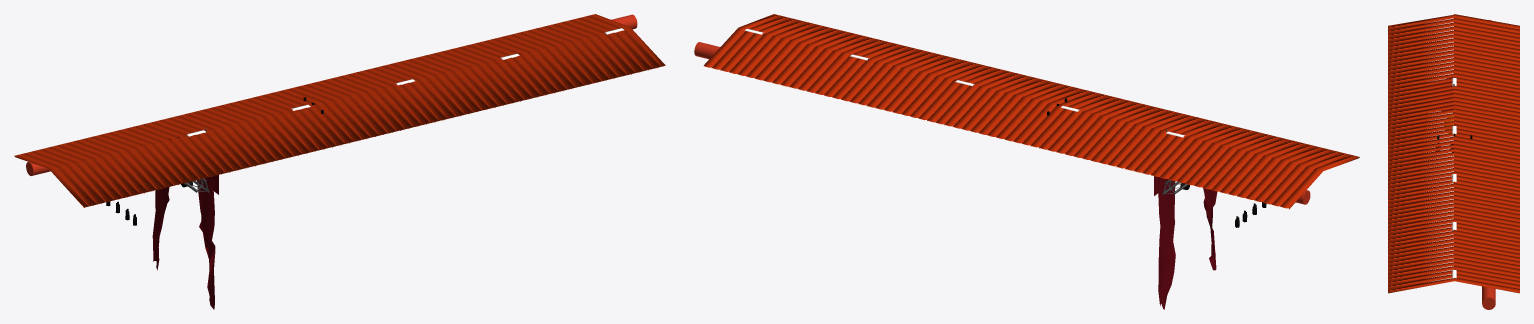
The model's file is plafond.glb.
The picture shows the model from 3 angles, left to right: view 1: azimuth 30°, elevation 25°; view 2: azimuth 150°, elevation 25°; view 3: azimuth 270°, elevation 25°; orthographic projection. The views are drawn at different scales.
Visible parts, largest first — view 1: toit, rideau rouges, tuyau orange haut; view 2: toit, rideau rouges; view 3: toit, tuyau orange haut, lampe jour, rideau rouges.
Part boxes in pixels (left/top/right/bottom): toit: left=14, top=14, right=665, bottom=207; rideau rouges: left=152, top=136, right=218, bottom=309; tuyau orange haut: left=26, top=14, right=637, bottom=175; toit: left=703, top=14, right=1359, bottom=209; rideau rouges: left=1154, top=176, right=1217, bottom=309; toit: left=1388, top=14, right=1519, bottom=293; tuyau orange haut: left=1482, top=20, right=1495, bottom=309; lampe jour: left=1452, top=78, right=1456, bottom=278; rideau rouges: left=1427, top=77, right=1453, bottom=110.
Size of the model in its own units: 8.45 by 2.07 by 1.7.
